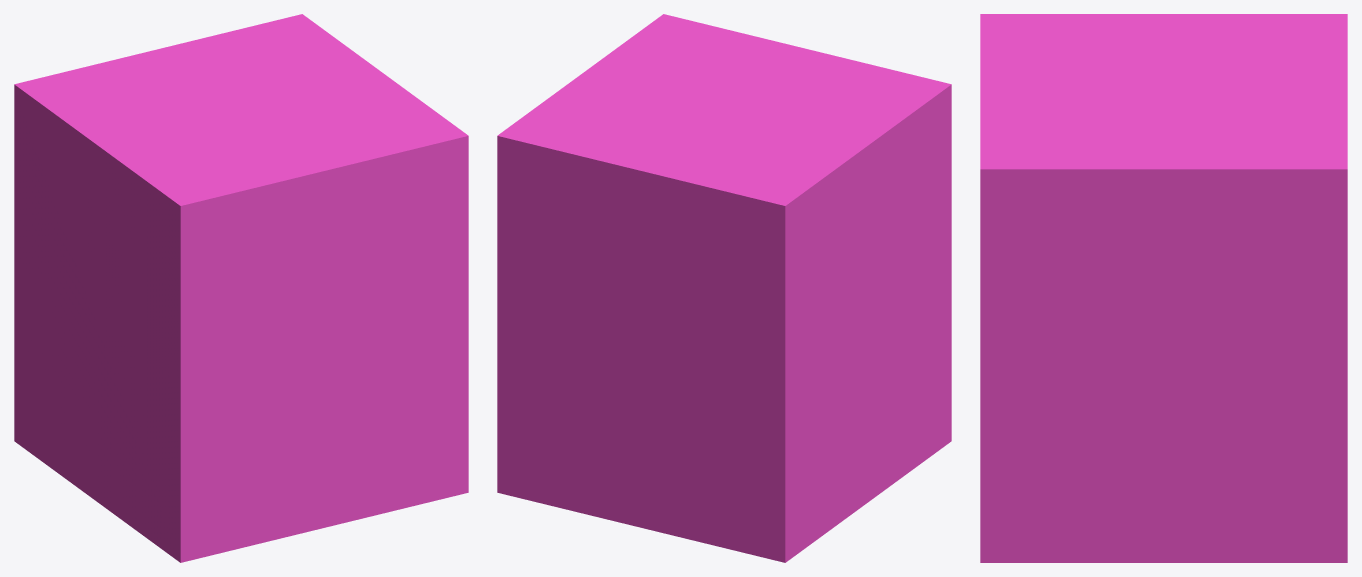
Rendered from cryo_cannon.glb.
3 renders of one model, left to right at view 1: azimuth 30°, elevation 25°; view 2: azimuth 150°, elevation 25°; view 3: azimuth 270°, elevation 25°, orthographic. The views are drawn at different scales.
Parts seen in each view (by area): view 1: COL_BOX_BODY; view 2: COL_BOX_BODY; view 3: COL_BOX_BODY.
Boxes of the visible parts, x1=… form: COL_BOX_BODY: x1=14, y1=14, x2=468, y2=562; COL_BOX_BODY: x1=497, y1=14, x2=951, y2=562; COL_BOX_BODY: x1=980, y1=14, x2=1347, y2=562.
Size of the model in its own units: 1.2 by 1.42 by 1.2.
